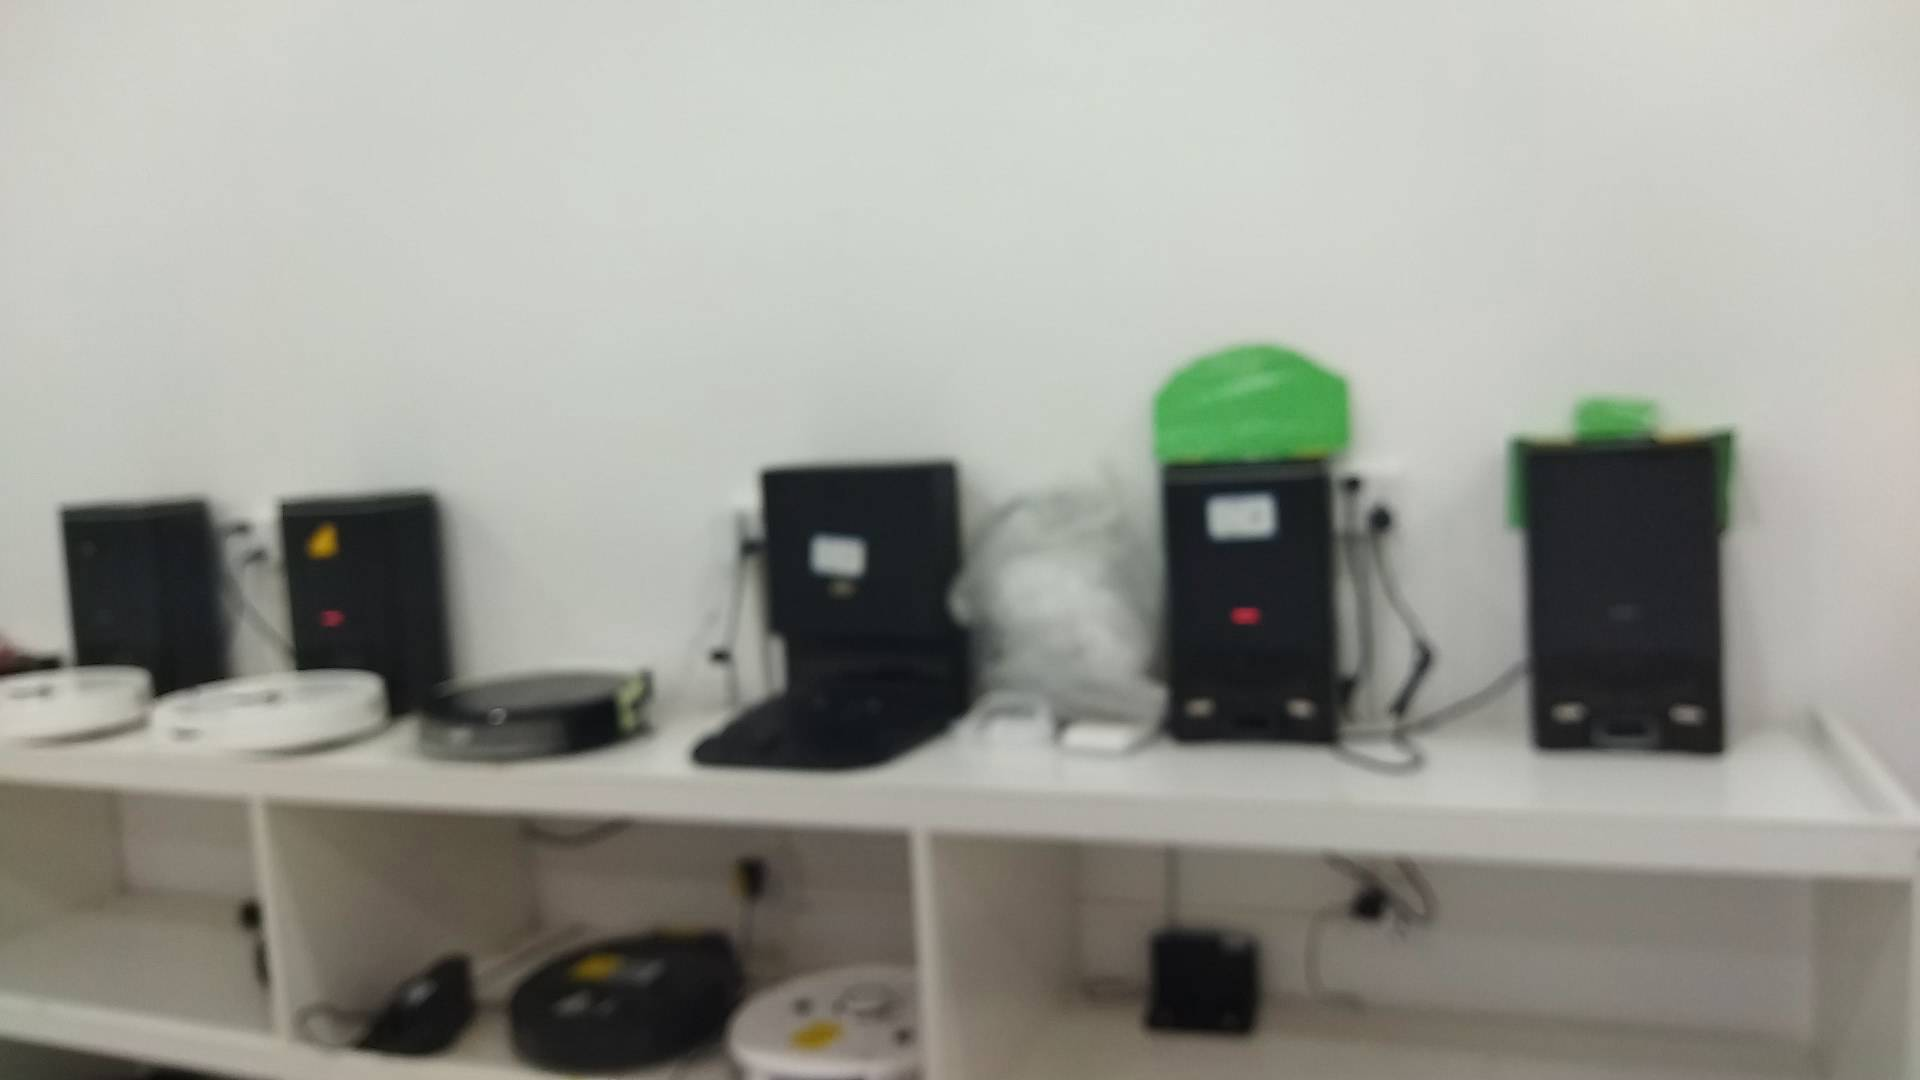dust collecting barrel: (691, 462, 976, 771), (1530, 443, 1729, 760), (1160, 464, 1346, 746), (280, 495, 444, 721), (61, 500, 216, 696)
recharge seat: (1141, 928, 1261, 1040)
